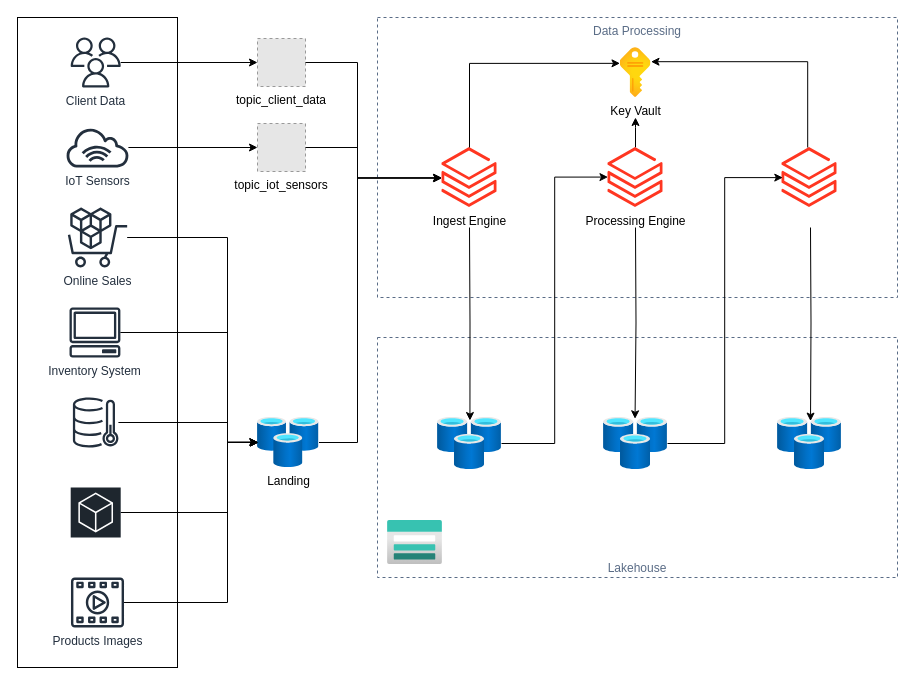
This 915x685 diagram has some shape labels left out. Grey dashed boxes stand in for pictures. The shapes that lost their labels are listed below. From the top down, each one's centre as x and y in pixels, then its label:
At point (809, 177): "Aggregation Engine".
At point (95, 422): "Meteorology Center".
At point (469, 443): "Bronze".
At point (635, 443): "Silver".
At point (809, 443): "Gold".
At point (95, 512): "Logistics System".
